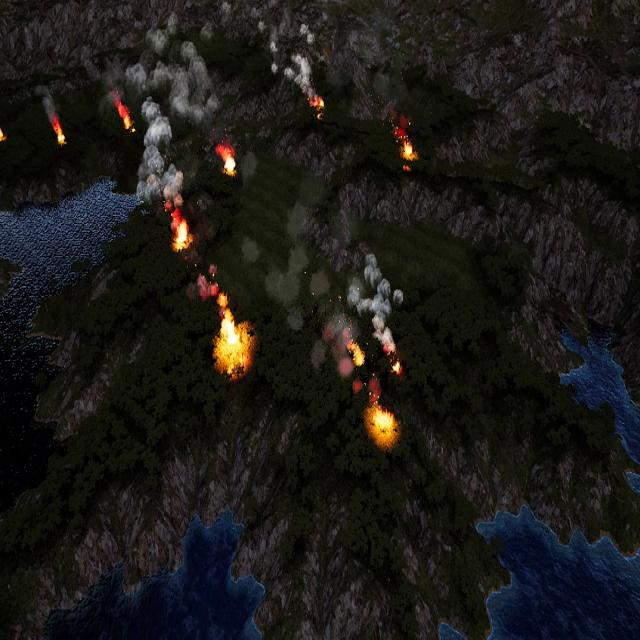fire: (212, 299, 251, 375), (371, 403, 397, 442), (393, 117, 414, 162), (170, 210, 192, 250), (384, 336, 404, 376), (216, 141, 236, 175), (347, 331, 364, 366), (116, 100, 132, 130), (400, 136, 415, 160), (55, 121, 67, 147), (310, 94, 324, 112), (0, 128, 7, 144)
smoke: (269, 185, 402, 381), (95, 26, 219, 204), (263, 15, 319, 101), (190, 263, 228, 320), (40, 92, 57, 123)
